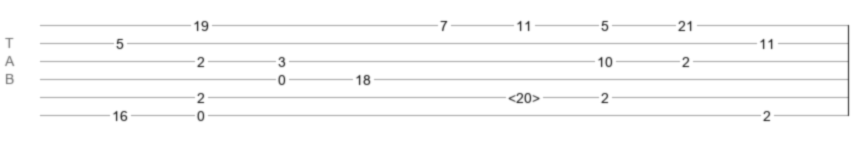0: (197, 108, 205, 118), (278, 72, 286, 82)
10: (597, 54, 613, 64)
11: (516, 18, 532, 28), (759, 36, 775, 46)
16: (112, 108, 128, 118)
18: (355, 72, 371, 82)
19: (193, 18, 209, 28)
2: (197, 90, 205, 100), (197, 54, 205, 64), (601, 90, 609, 100), (682, 54, 690, 64), (763, 108, 771, 118)
21: (678, 18, 694, 28)
3: (278, 54, 286, 64)
5: (116, 36, 124, 46), (601, 18, 609, 28)
7: (440, 18, 448, 28)
harmonic: (508, 90, 540, 100)
